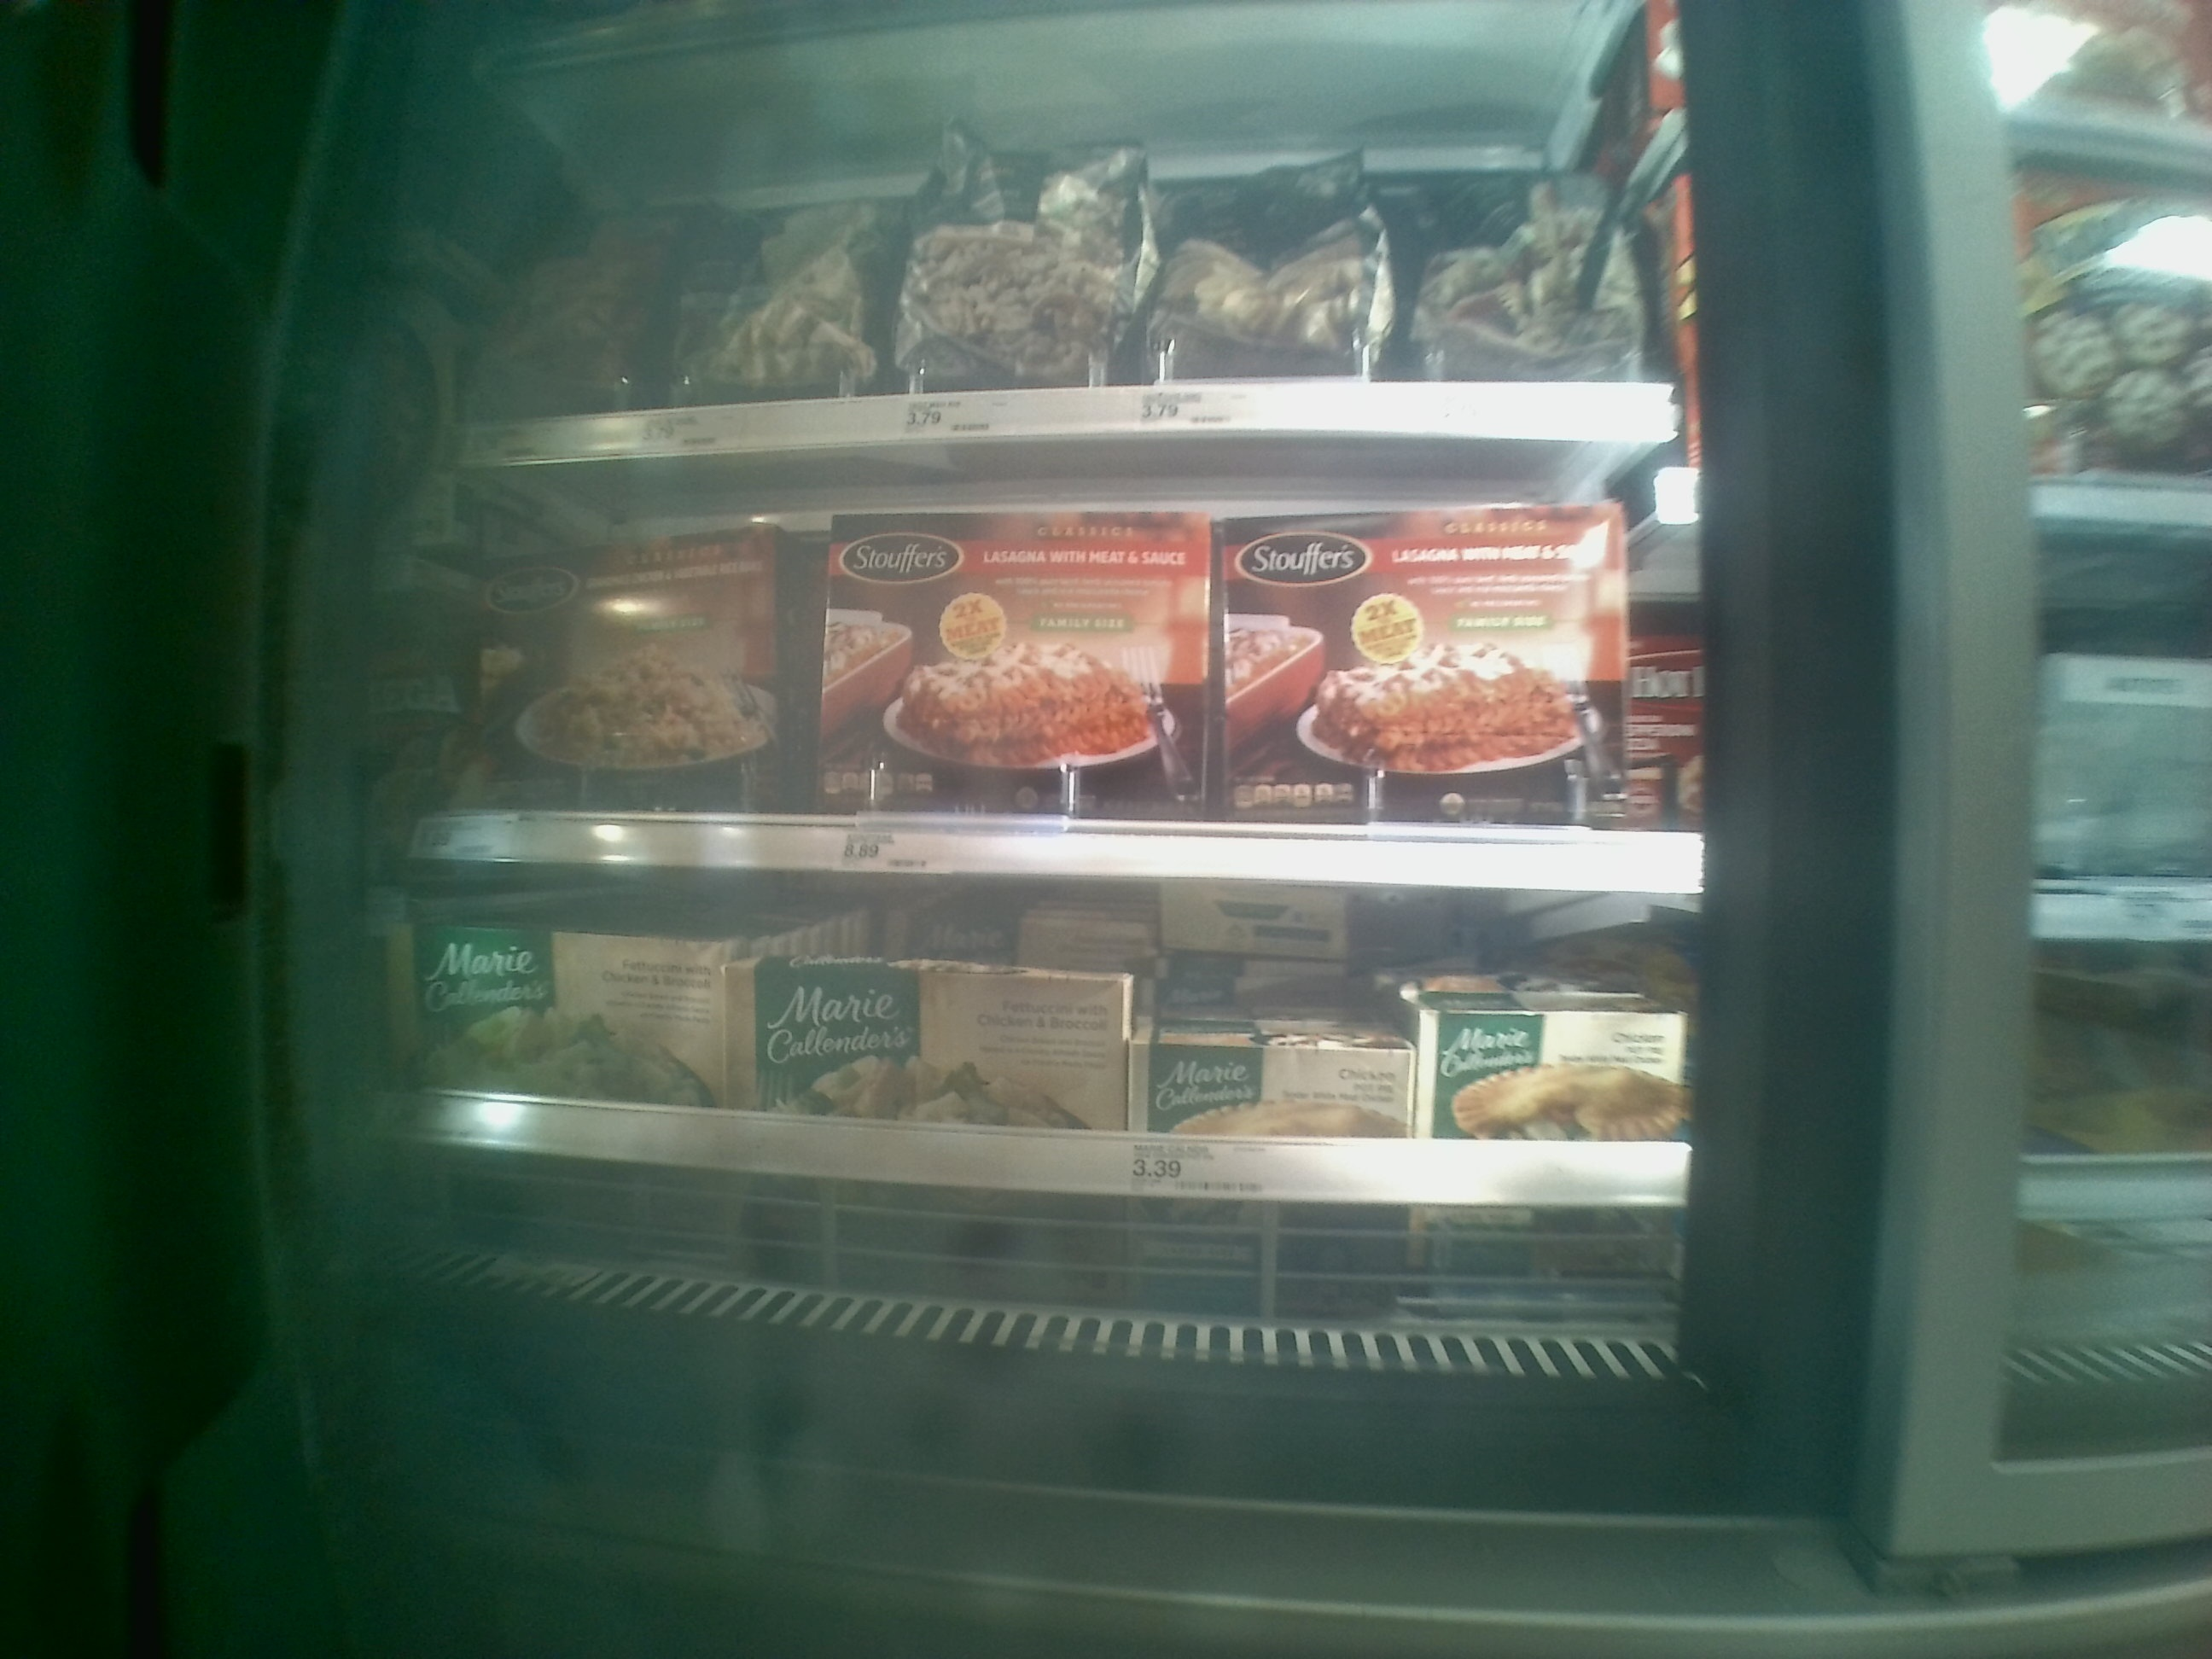shelf: (423, 836, 1691, 1333), (421, 432, 1703, 878)
